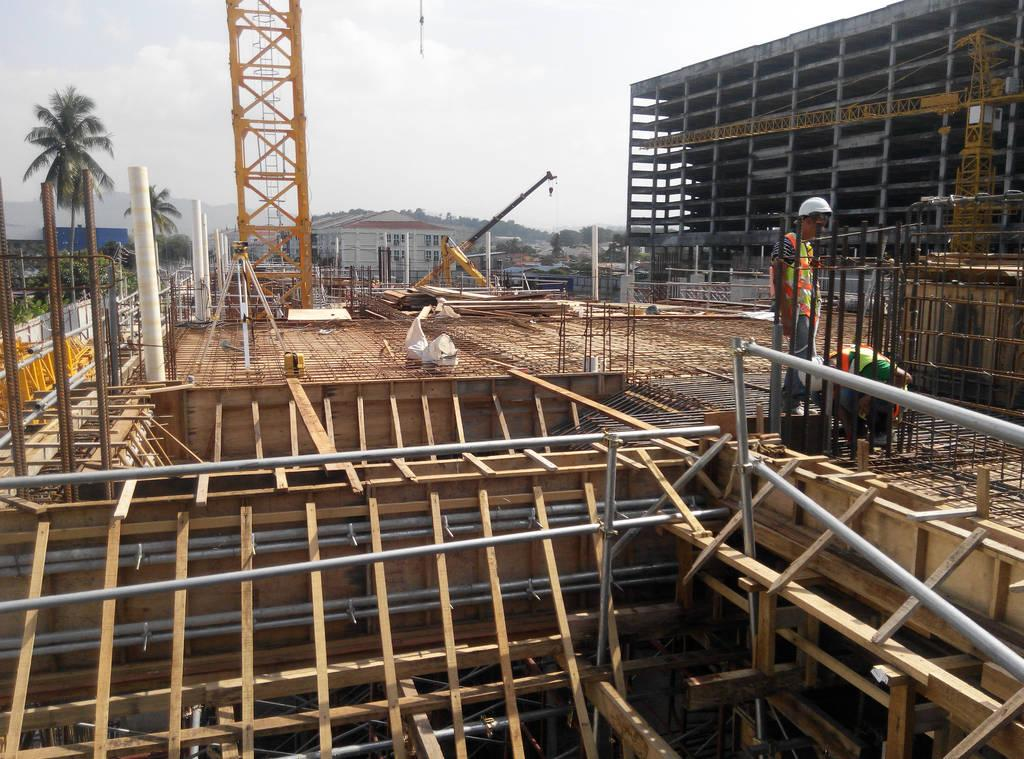helmet: (797, 347, 840, 397), (797, 197, 834, 220)
